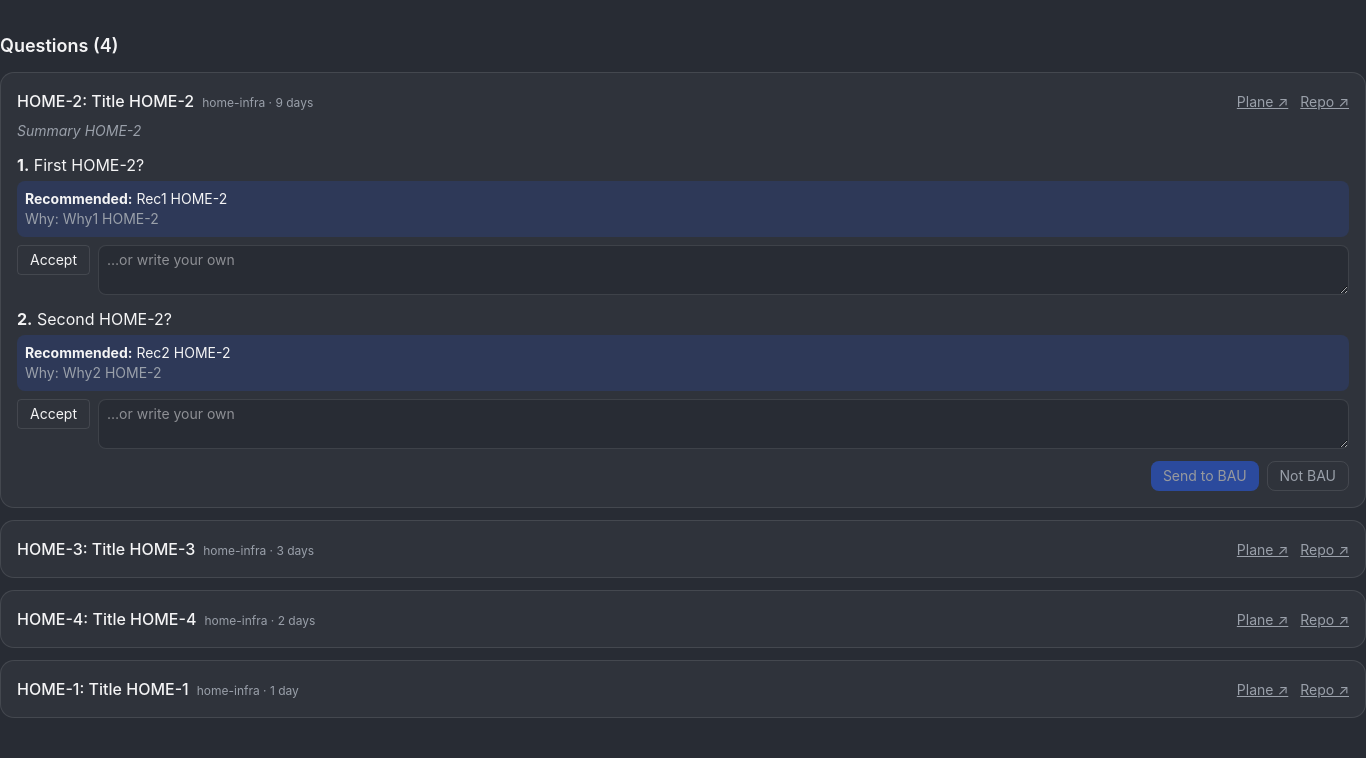
Test: Questions › more than three rows start with only the first (oldest) open
The image size is (1366, 758).
Check: the text "First HOME-2?" is shown, box left=34, top=155, right=144, bottom=175
Check: the text "First HOME-3?" is not shown
Click the button "HOME-3: Title HOME-3" at (106, 549), box left=17, top=537, right=195, bottom=561
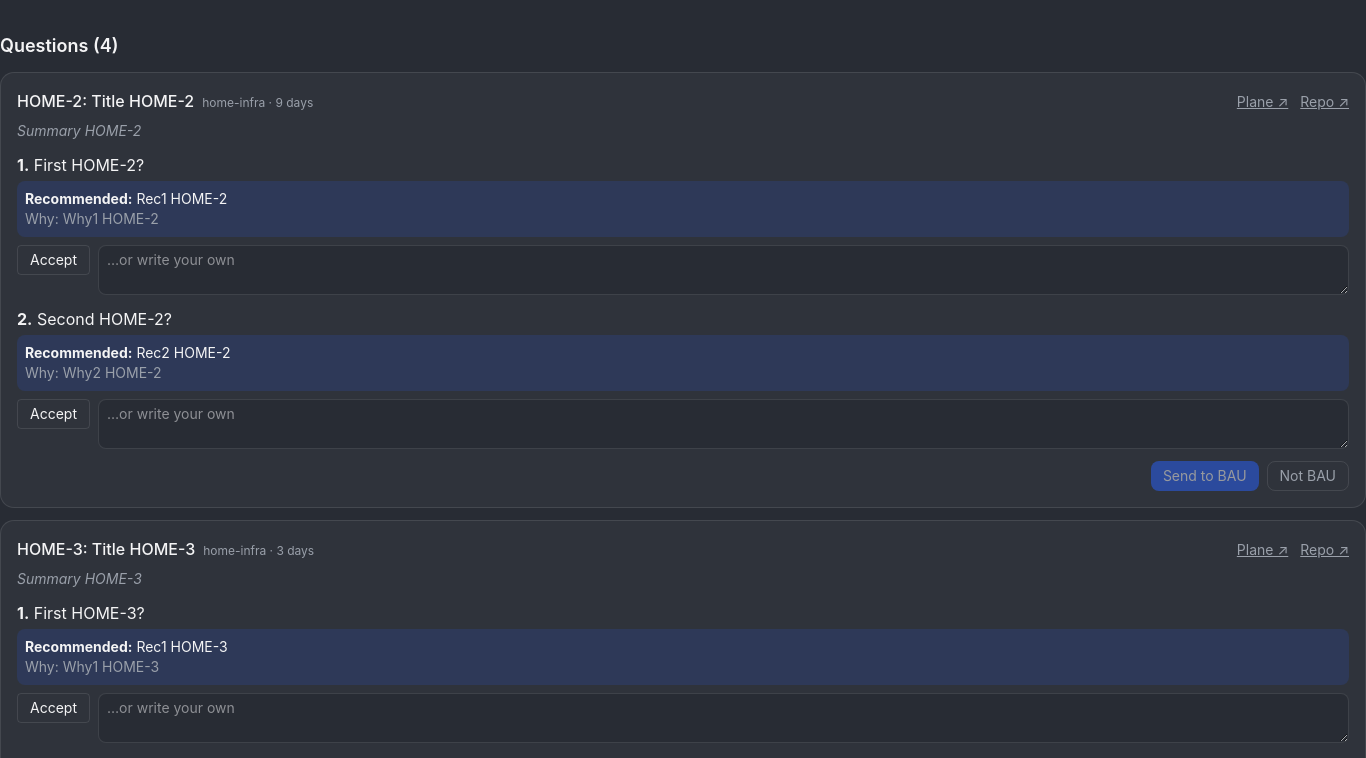
Check: the text "First HOME-3?" is shown, box left=34, top=603, right=145, bottom=623
